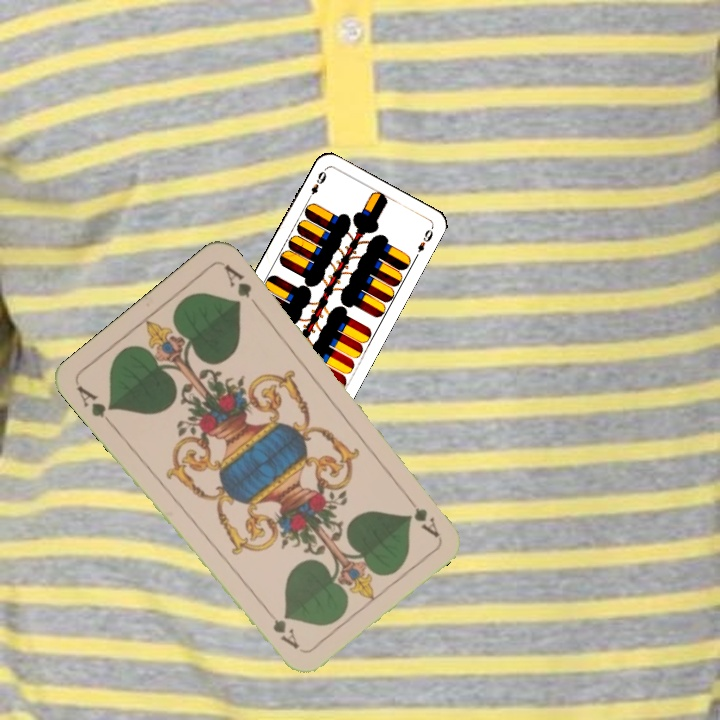E9: (304, 167, 329, 203)
GA: (72, 381, 117, 430), (400, 489, 442, 540)
